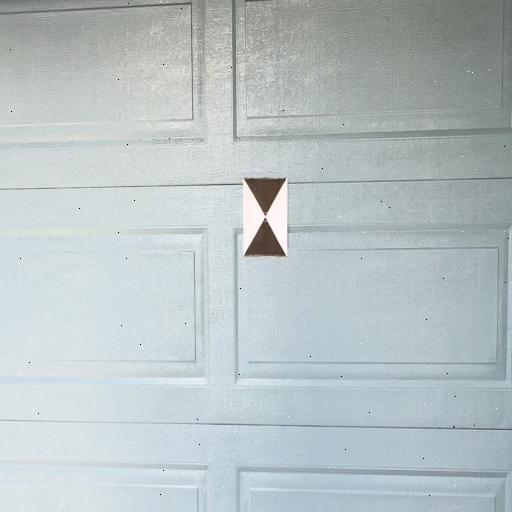target: (243, 178, 287, 255)
